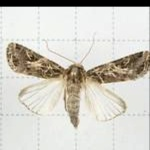Spodoptera litura: (5, 33, 147, 128)
